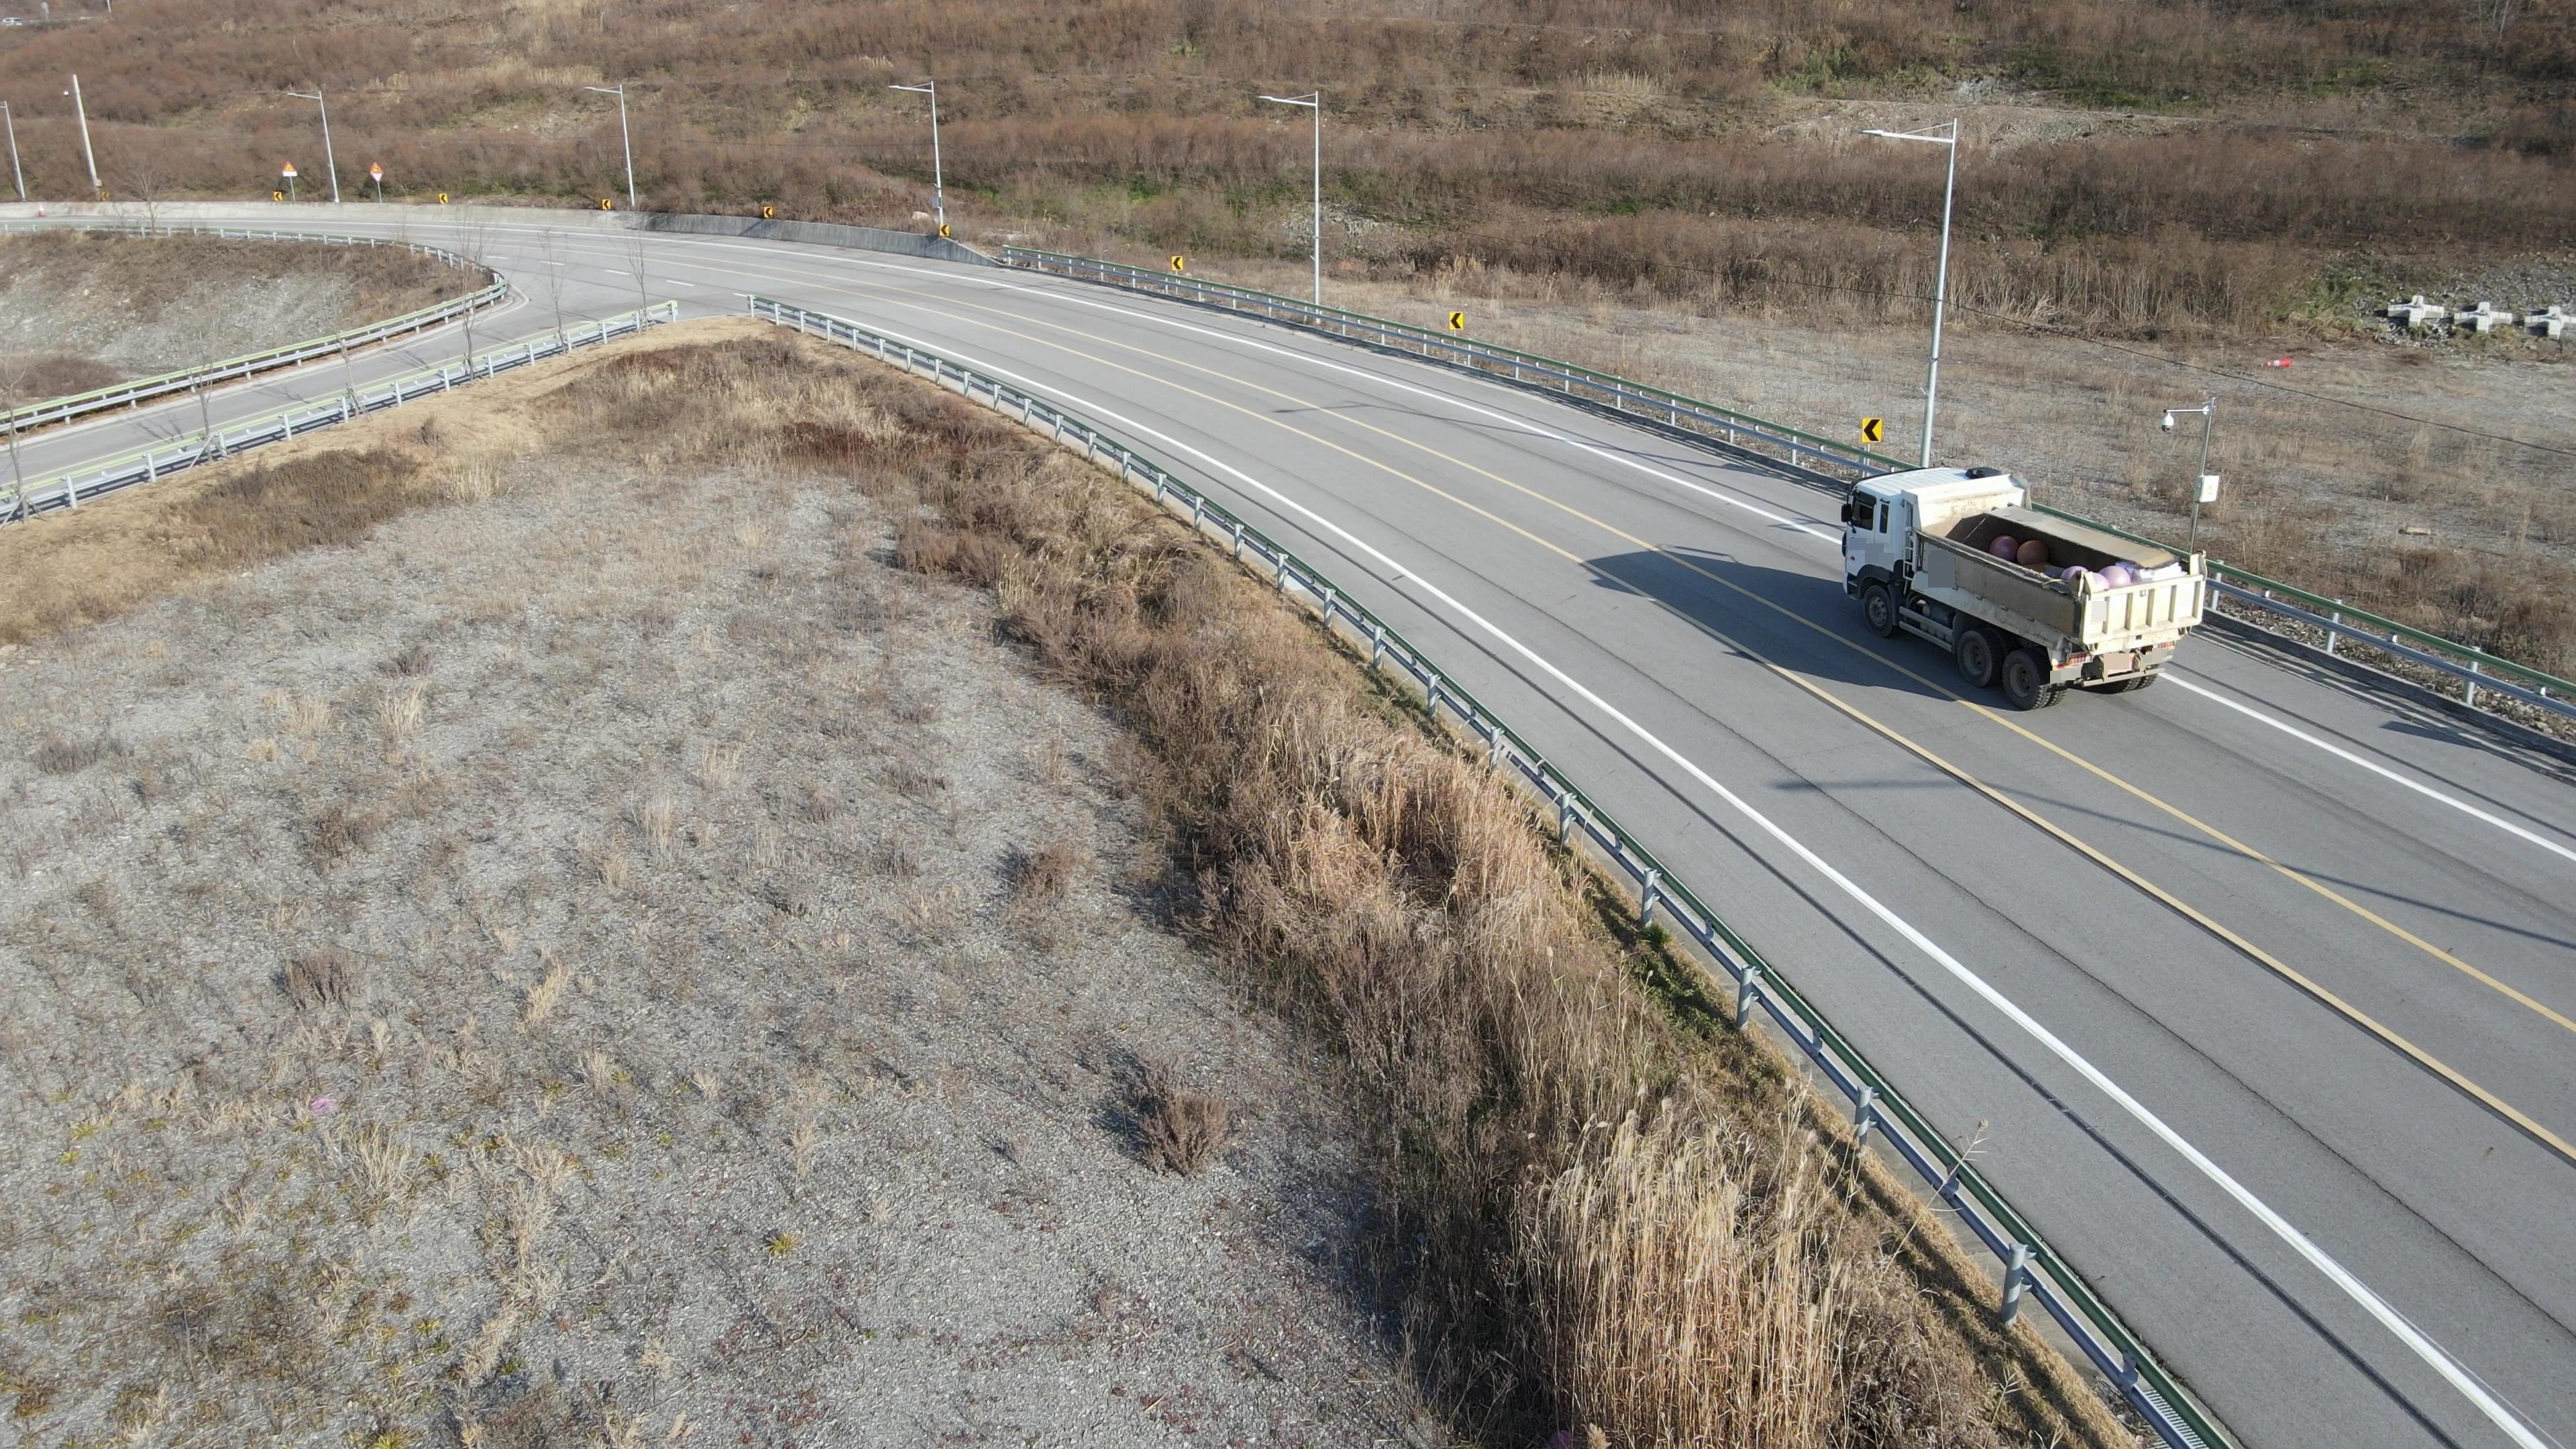불법차량: (1842, 467, 2206, 711)
